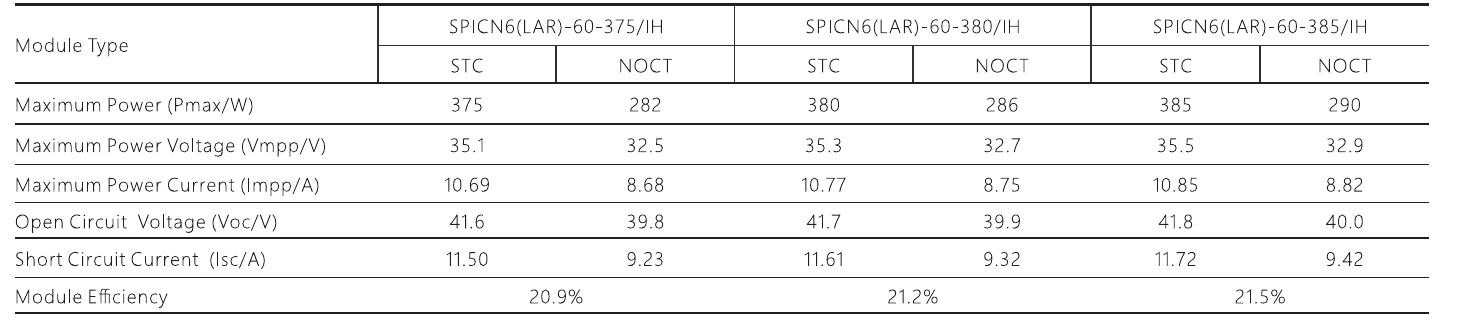table: (4, 3, 1458, 319)
table column: (15, 2, 377, 312), (737, 2, 912, 315), (912, 2, 1085, 315), (556, 3, 730, 314), (1264, 3, 1434, 314), (1097, 3, 1262, 314), (389, 5, 555, 309)
table row: (8, 43, 1447, 79), (11, 127, 1452, 162), (9, 7, 1441, 41), (9, 86, 1449, 119), (10, 168, 1451, 200), (9, 243, 1448, 274), (7, 205, 1448, 233), (8, 281, 1450, 308)
table spanning cell: (10, 8, 374, 76), (376, 5, 734, 44), (734, 5, 1091, 41), (387, 280, 733, 313), (1091, 9, 1438, 41), (736, 281, 1091, 307), (1094, 286, 1440, 312)
